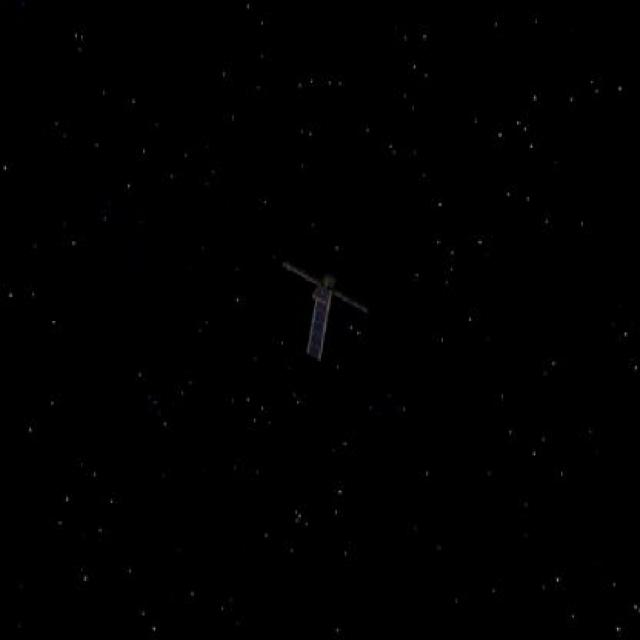medium_debris: (273, 248, 383, 365)
